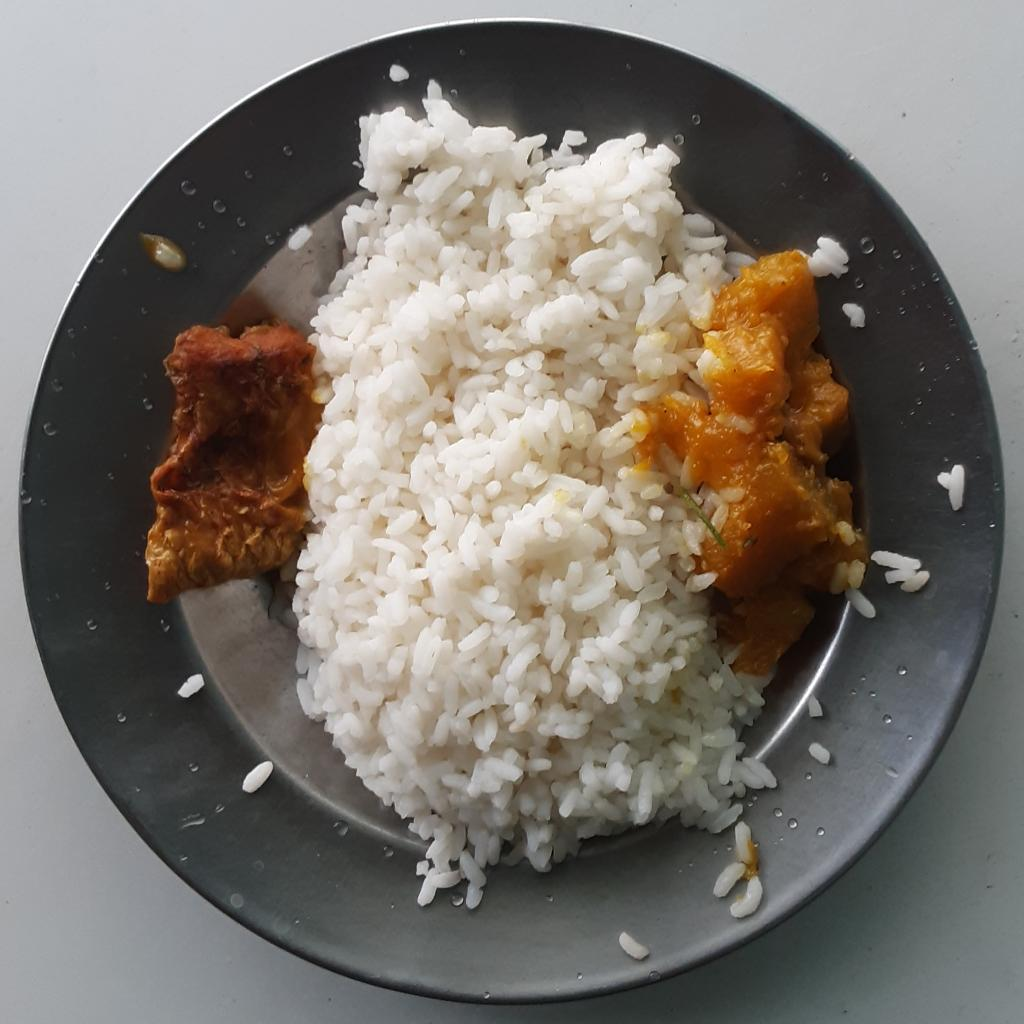fish: (142, 321, 321, 605)
kumra-vaji: (640, 250, 863, 678)
rice: (272, 80, 776, 919)
